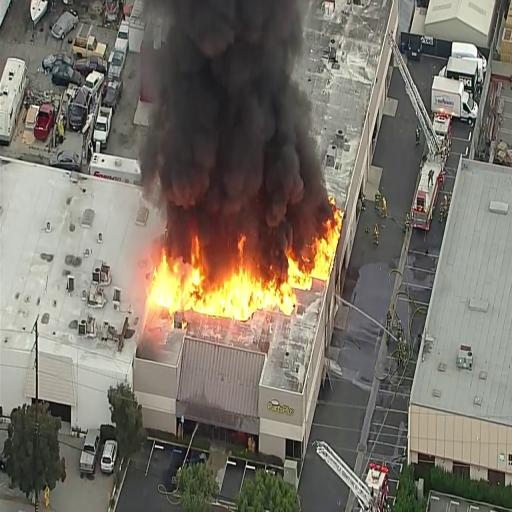fire: (143, 250, 230, 318), (221, 248, 299, 319), (310, 206, 346, 284)
smoke: (178, 0, 302, 240)
